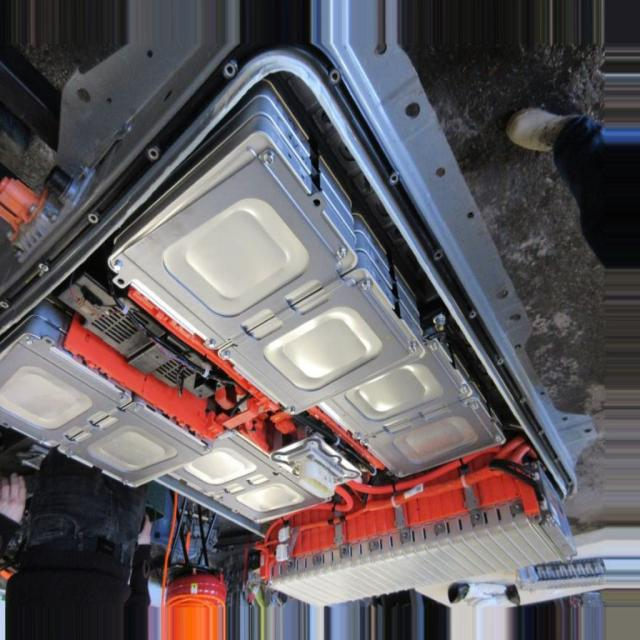Bolt: (262, 150, 276, 167), (361, 278, 374, 292), (490, 429, 502, 444), (338, 248, 349, 262), (431, 339, 441, 354), (345, 277, 356, 289), (406, 342, 419, 352), (472, 402, 482, 414), (459, 384, 468, 396), (396, 471, 406, 480)
